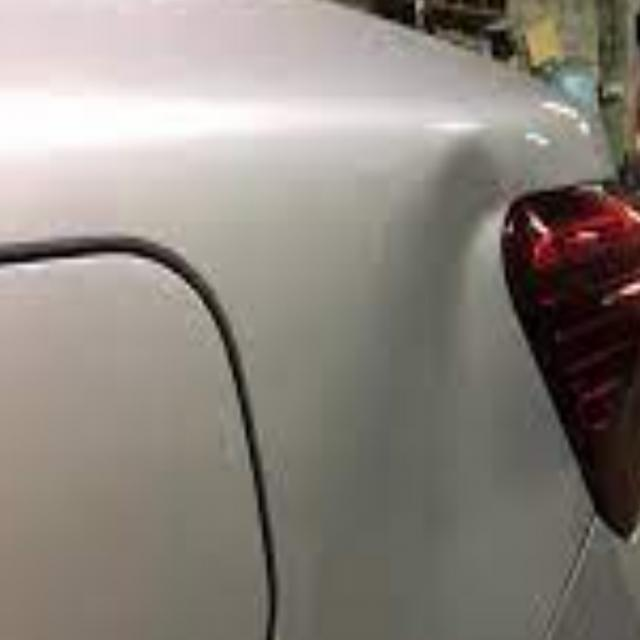dents: (387, 124, 513, 377)
